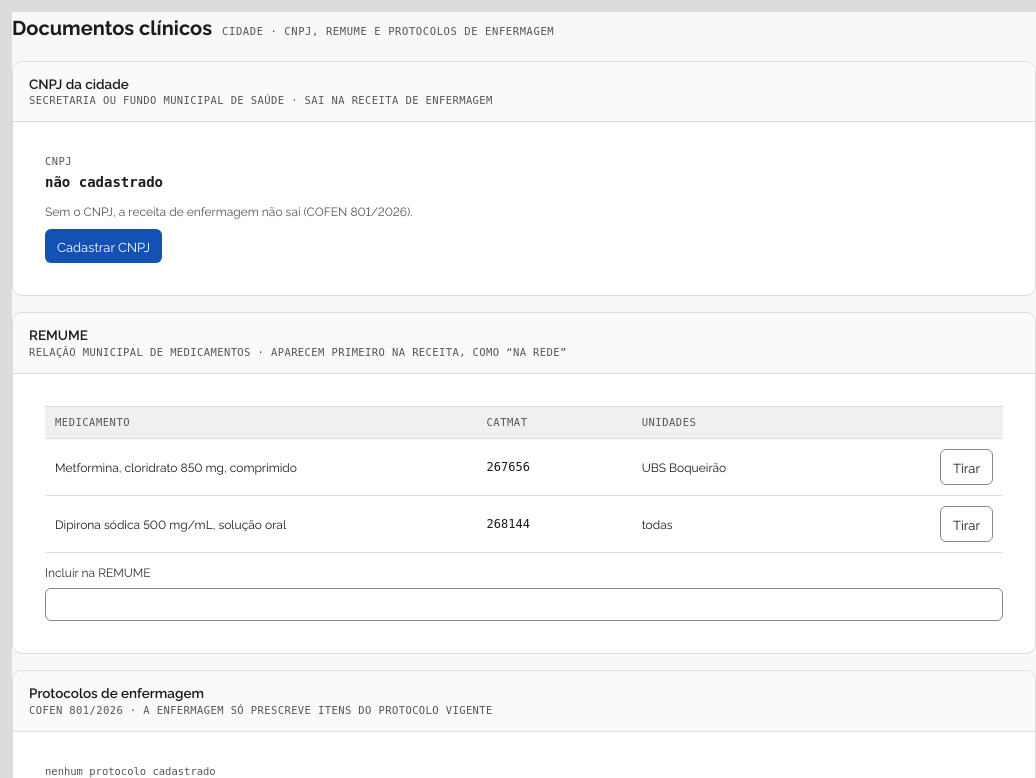
Test: ClinicalDocumentsAdmin › CNPJ: sem cadastro diz o efeito; cadastrar com step-up recusa DV inválido e salva só os dígitos
Check: the text "não cadastrado" is shown, box [45,174,163,190]
Check: the text "Sem o CNPJ, a receita de enfermagem não sai (COFEN 801/2026)." is shown, box [45,202,412,219]
Step 1. Click the button "Cadastrar CNPJ" → (103, 246), box [45,229,162,263]
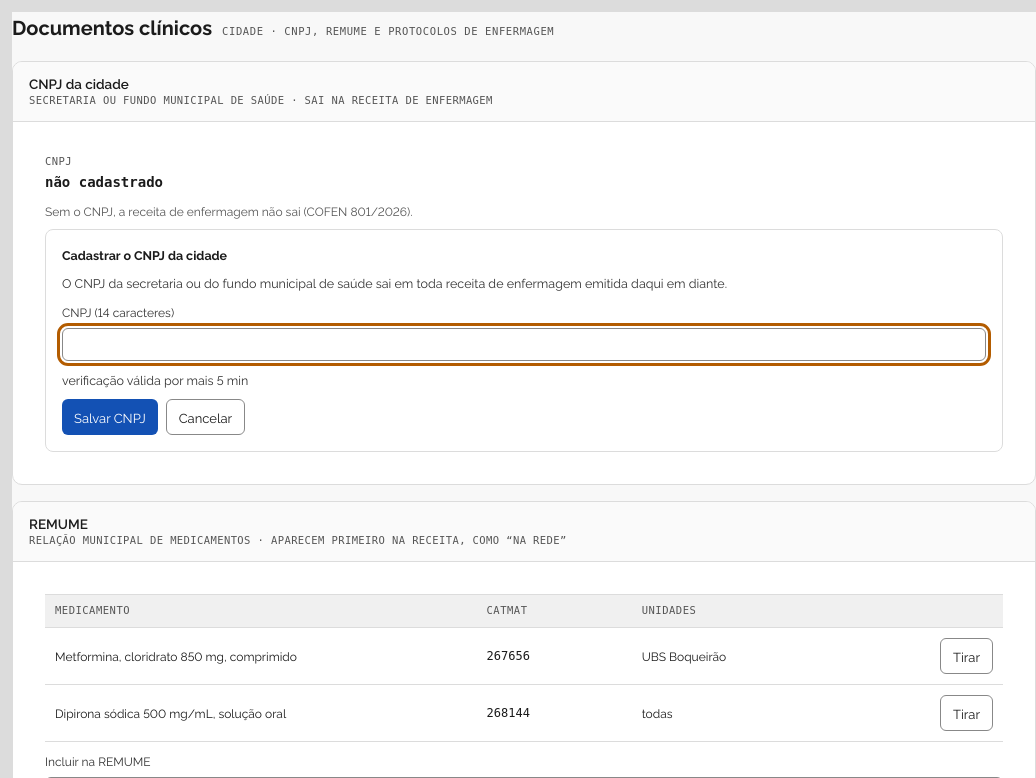
Step 2. Type "11.222.333/0001-80" into the field labelled "CNPJ (14 caracteres)" → (524, 344), box [62,328,986,361]
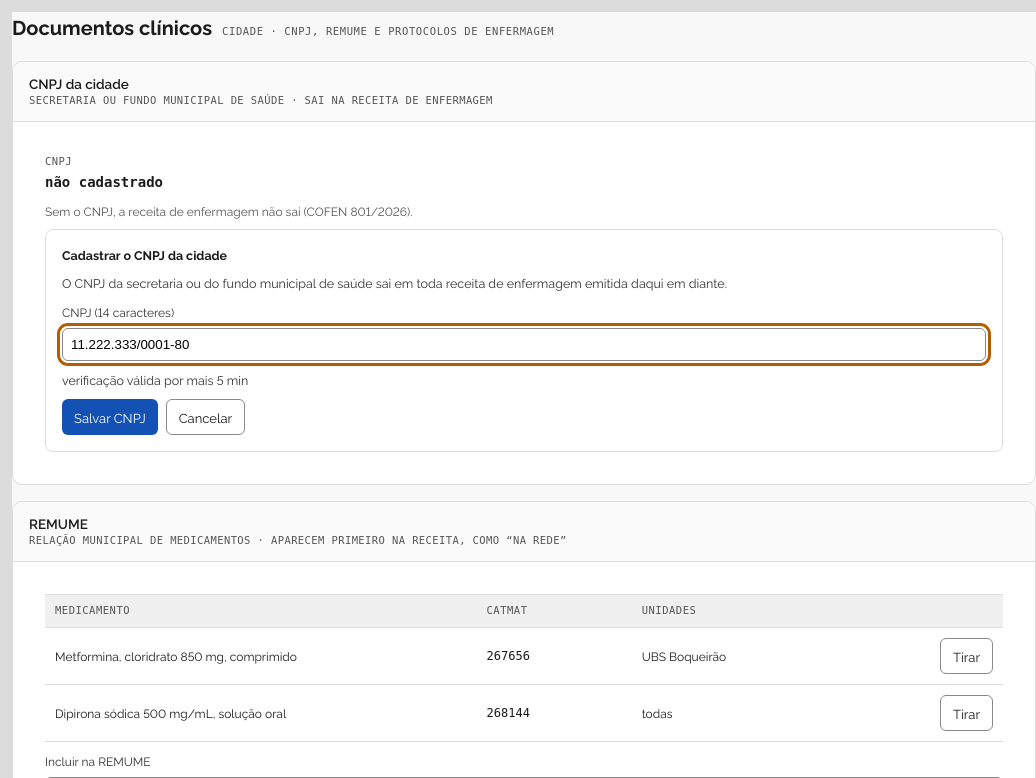
Step 3. Click the button "Salvar CNPJ" → (110, 417), box [62,399,158,435]
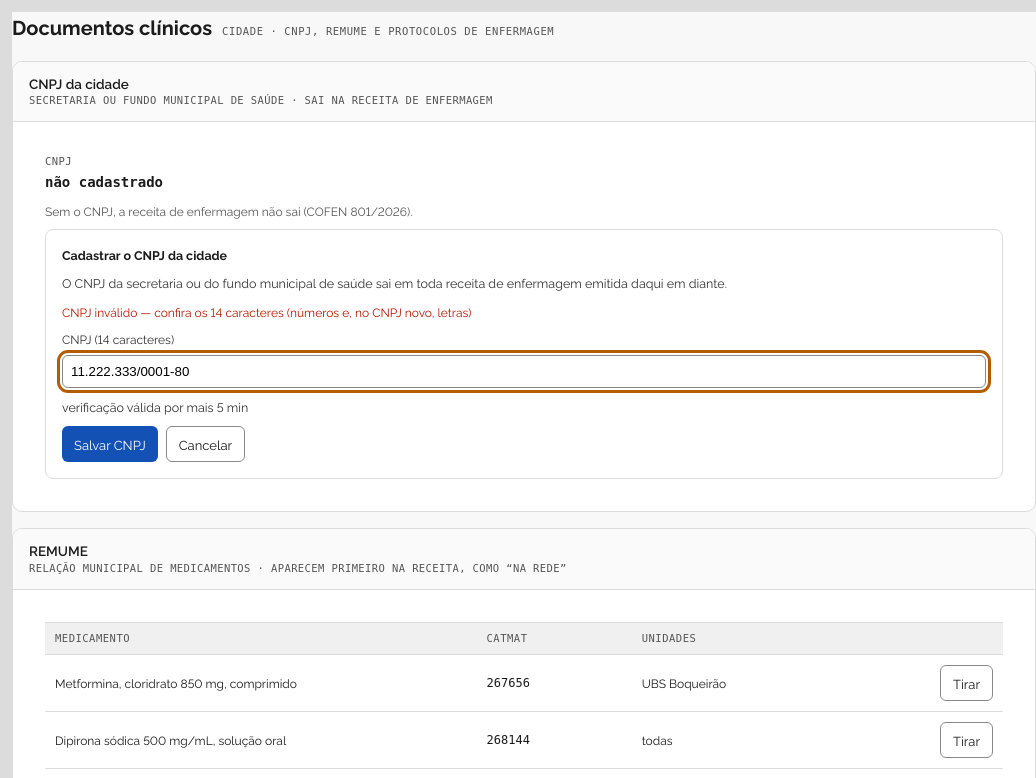
Check: the message reads "CNPJ inválido — confira os 14 caracteres (números e, no CNPJ novo, letras)", box [62,303,472,320]
Step 4. Replace the text in the field labelled "CNPJ (14 caracteres)" with "11.222.333/0001-81" → (524, 372), box [62,355,986,388]
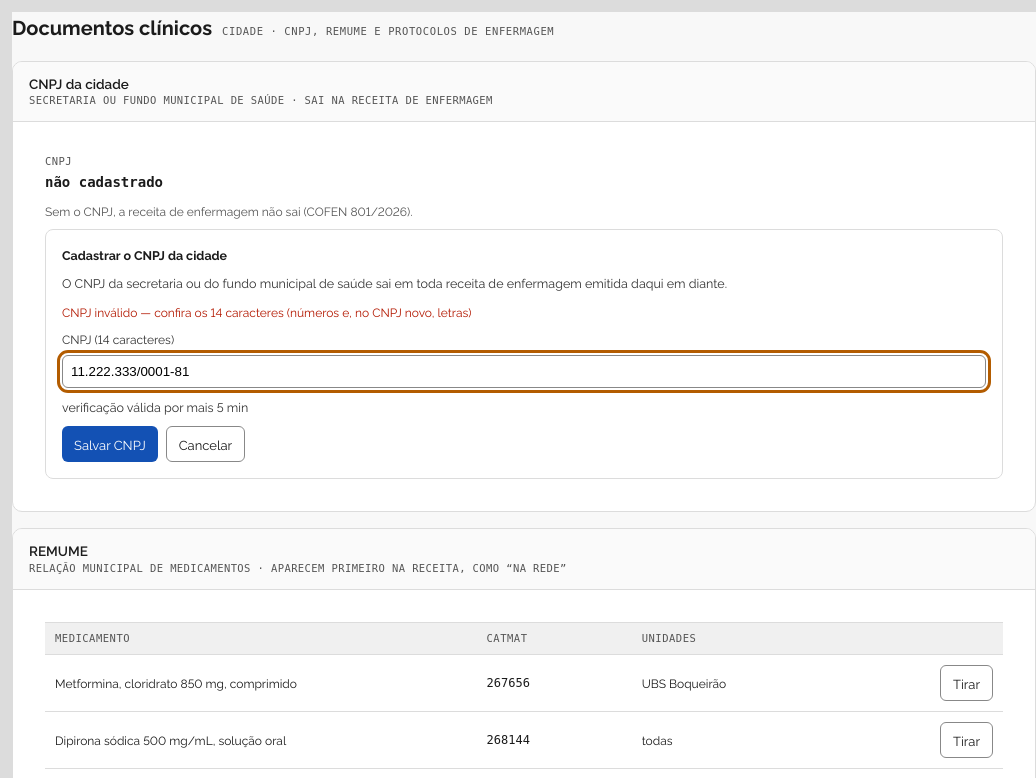
Step 5. Click the button "Salvar CNPJ" → (110, 444), box [62,426,158,462]
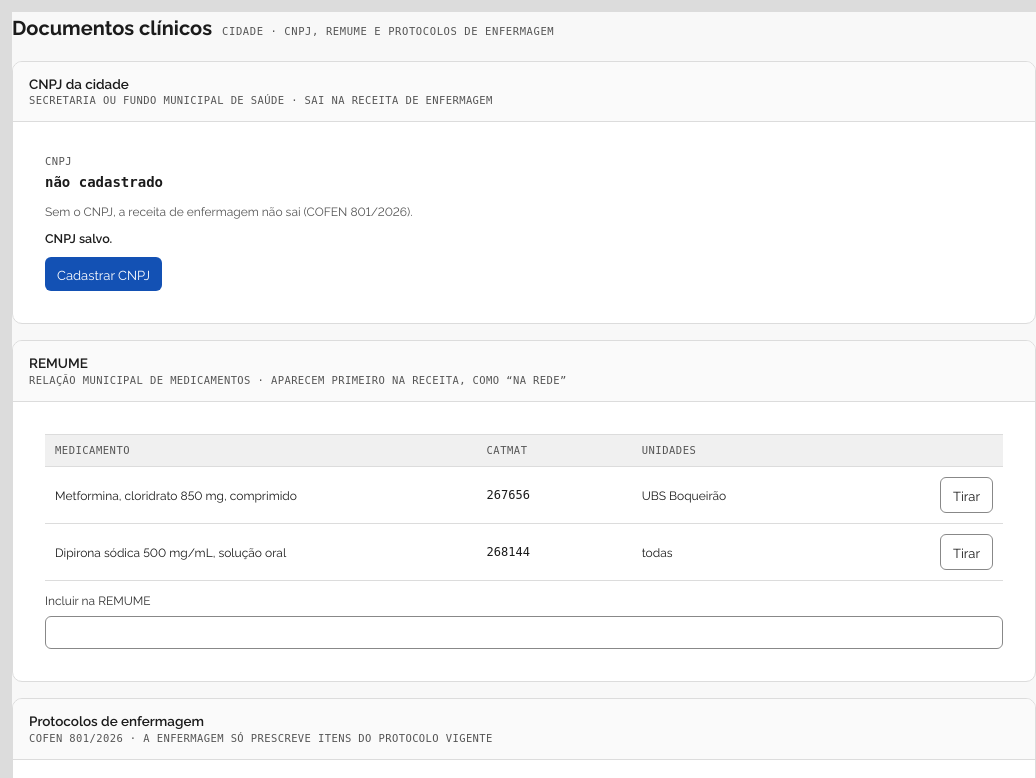
Check: the message reads "CNPJ salvo.", box [45,229,112,246]
